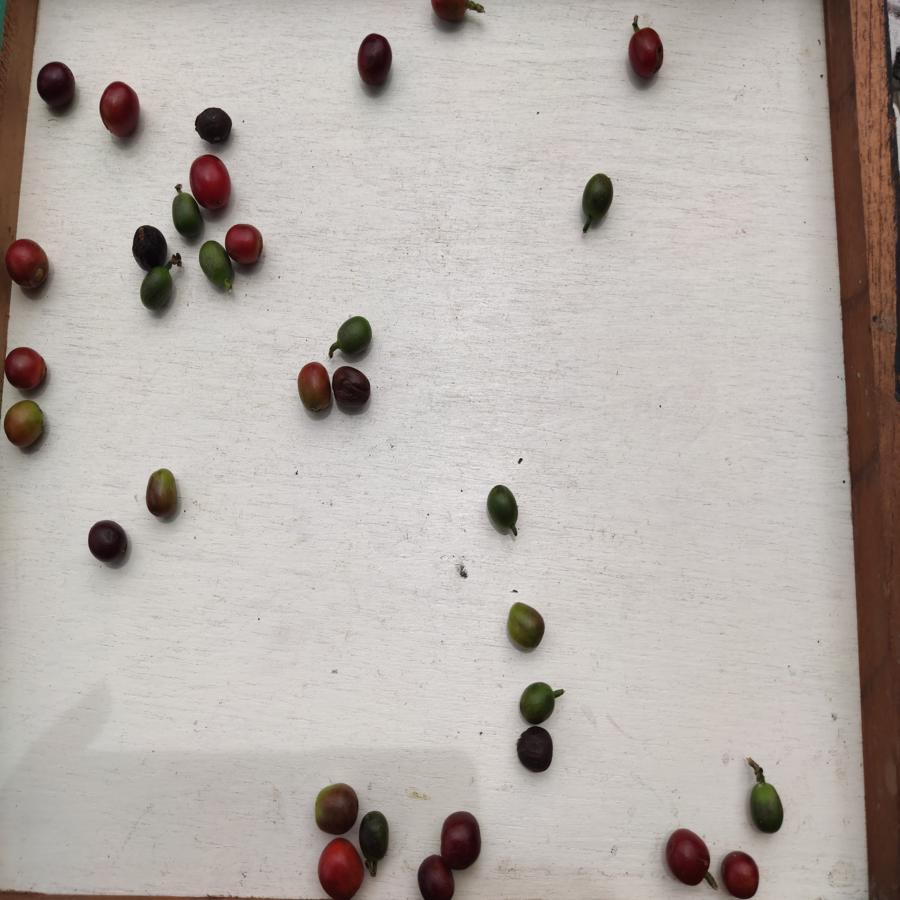Inmaduro: (748, 780, 788, 835), (579, 173, 616, 219), (359, 807, 390, 861), (197, 242, 235, 286), (139, 267, 175, 313), (334, 314, 371, 357), (520, 679, 554, 724), (486, 485, 519, 529), (170, 193, 201, 239)
Maduro: (315, 838, 364, 899), (667, 826, 712, 890), (95, 79, 141, 137), (5, 235, 52, 289), (195, 154, 231, 212), (5, 344, 47, 393), (722, 850, 760, 900), (225, 225, 265, 265)
Pinton: (313, 781, 358, 834), (1, 399, 47, 450), (504, 601, 546, 652), (295, 361, 335, 414), (145, 465, 179, 518)
Sobremaduro: (440, 807, 480, 867), (32, 59, 78, 107), (627, 25, 665, 80), (516, 724, 556, 775), (357, 32, 393, 86), (129, 223, 173, 265), (332, 366, 371, 411), (417, 854, 455, 900), (88, 521, 131, 561), (194, 103, 234, 143)
